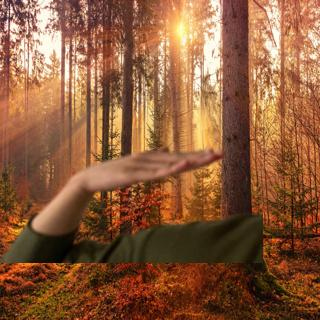WAIT: (75, 147, 227, 195)
